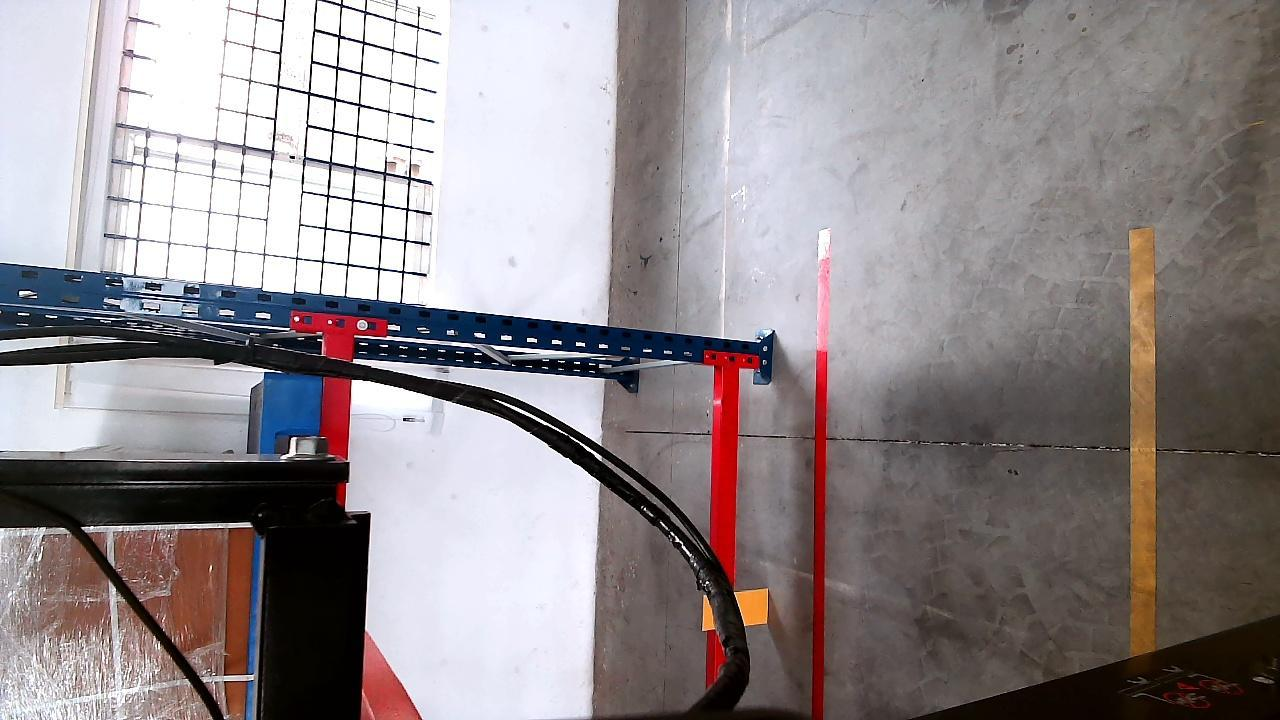red_line: (815, 228, 833, 715)
yellow_line: (1131, 225, 1164, 660)
